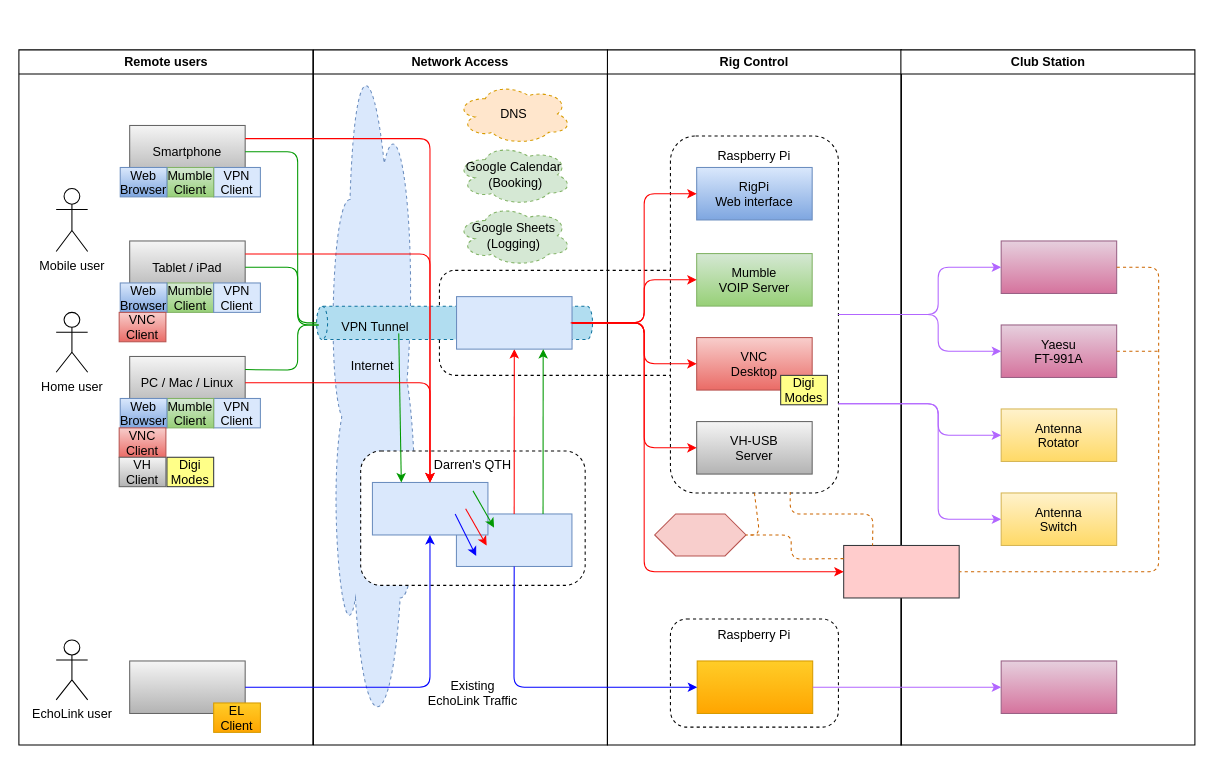
Some shapes in this 1213 by 763 pixel diagram are drawn without their labels. Here are the shapes that lost their labels. From the top down, the centre of each, then its label:
At pixel 1058 266: "Icom IC-7300".
At pixel 513 322: "VPN Server".
At pixel 429 508: "Internet Router".
At pixel 513 539: "SPARC DMZ".
At pixel 700 534: "Node Red (Controls)".
At pixel 901 571: "Remote Power Switch".
At pixel 187 686: "Smartphone / Computer".
At pixel 754 686: "EchoLink Server".
At pixel 1058 686: "Alinco VHF DR-135".
